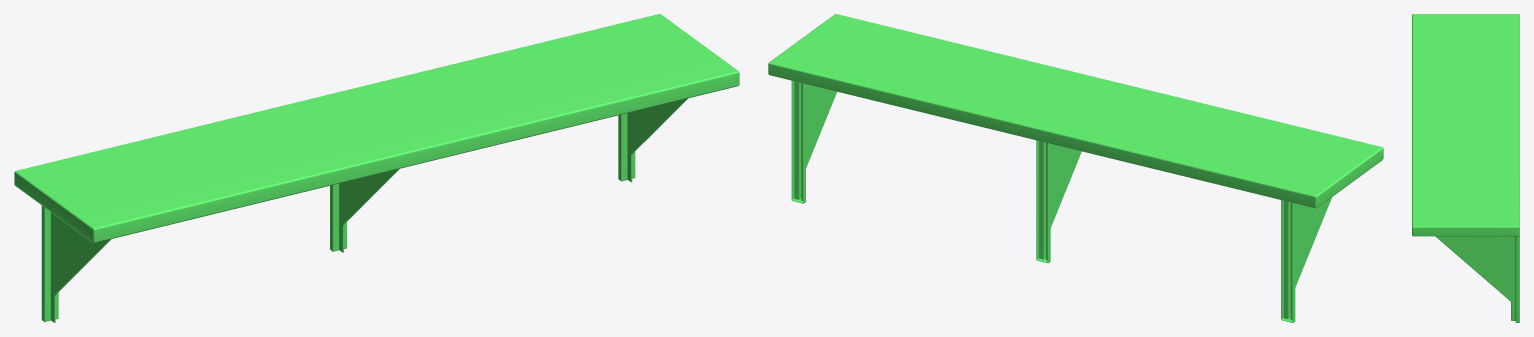
File: SM_KitchenShelf_Metal.fbx
The picture shows the model from 3 angles, left to right: view 1: azimuth 30°, elevation 25°; view 2: azimuth 150°, elevation 25°; view 3: azimuth 270°, elevation 25°; orthographic projection. The views are drawn at different scales.
Parts seen in each view (by area): view 1: SM_KitchenShelf_Metal; view 2: SM_KitchenShelf_Metal; view 3: SM_KitchenShelf_Metal.
Part boxes in pixels (x1,y1,x2,y2): SM_KitchenShelf_Metal: (14, 14, 739, 322); SM_KitchenShelf_Metal: (768, 14, 1383, 322); SM_KitchenShelf_Metal: (1412, 14, 1519, 322).
Bounding box in the file's own units: 134 × 30.89 × 28.59.
